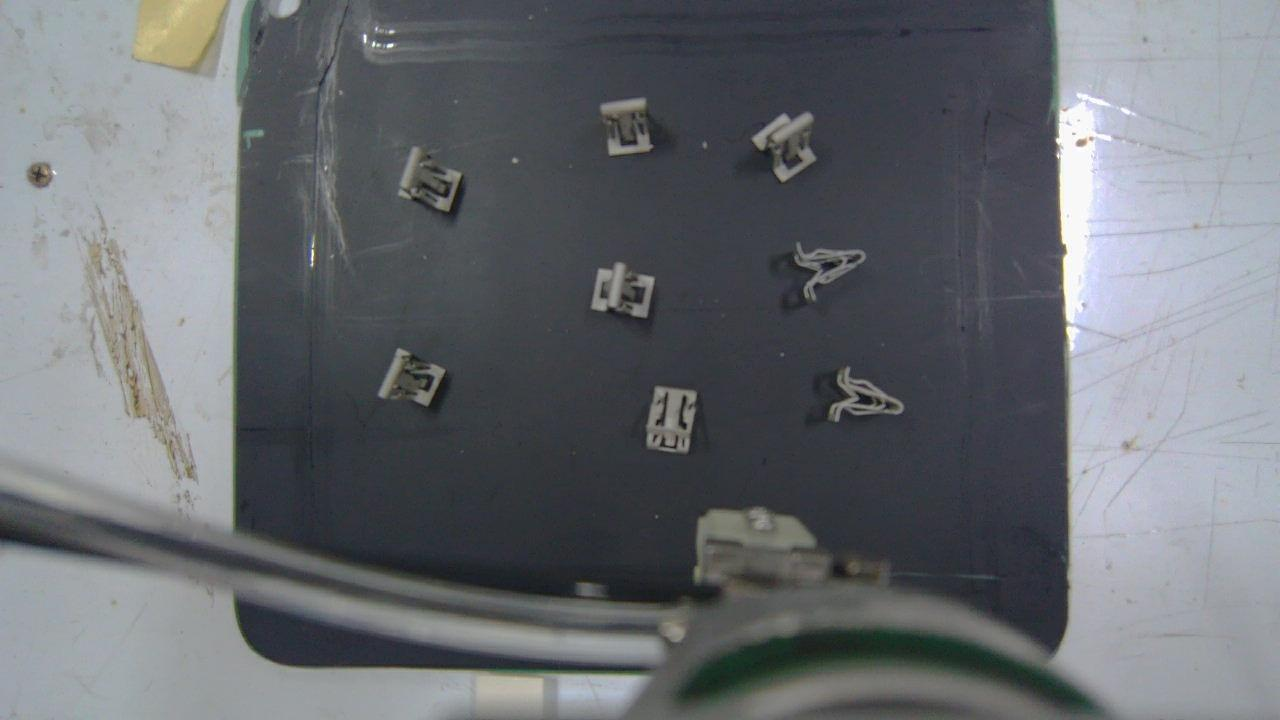ng: (397, 144, 465, 216), (792, 242, 870, 300), (750, 114, 816, 181), (827, 367, 904, 423), (382, 345, 448, 408), (600, 97, 656, 155), (646, 388, 696, 450)
pass: (592, 261, 655, 318)
